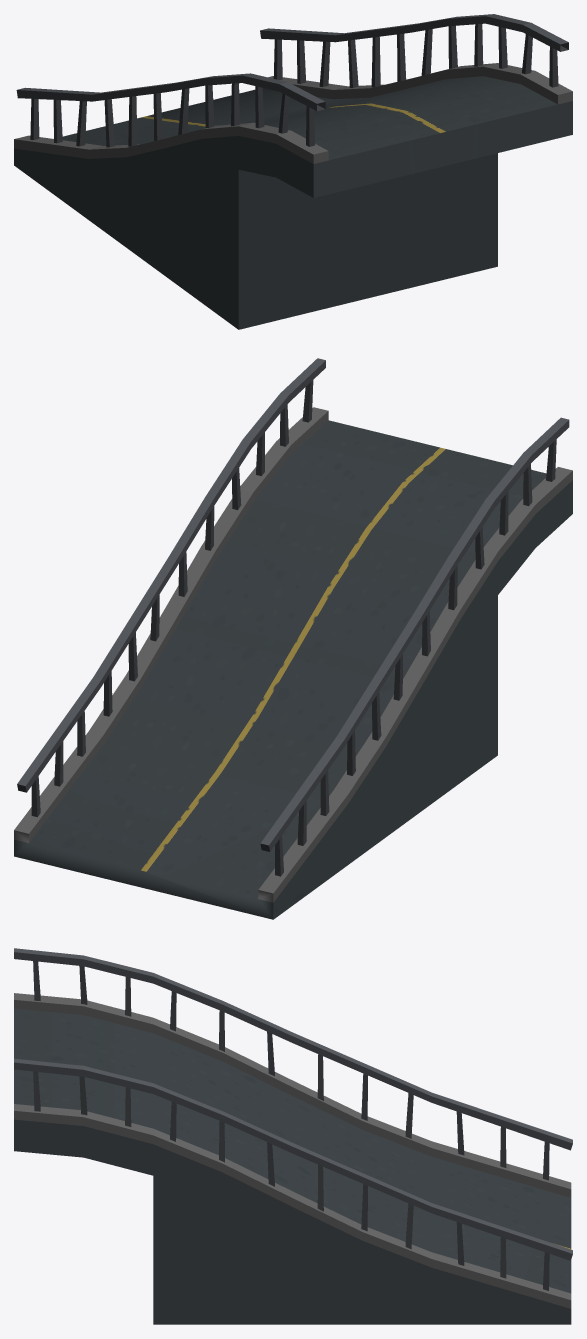
The model's file is Asphalt_E1.fbx.
3 renders of one model, top to bottom at view 1: azimuth 30°, elevation 25°; view 2: azimuth 150°, elevation 25°; view 3: azimuth 270°, elevation 25°, orthographic. The views are drawn at different scales.
Visible parts, largest first — view 1: Asphalt_E1; view 2: Asphalt_E1; view 3: Asphalt_E1.
Part boxes in pixels (x1,y1,x2,y2): Asphalt_E1: (14,14,572,329); Asphalt_E1: (14,358,572,919); Asphalt_E1: (14,948,572,1324).
Bounding box in the file's own units: 800 × 825 × 1605.
1 material, 1 textured.
